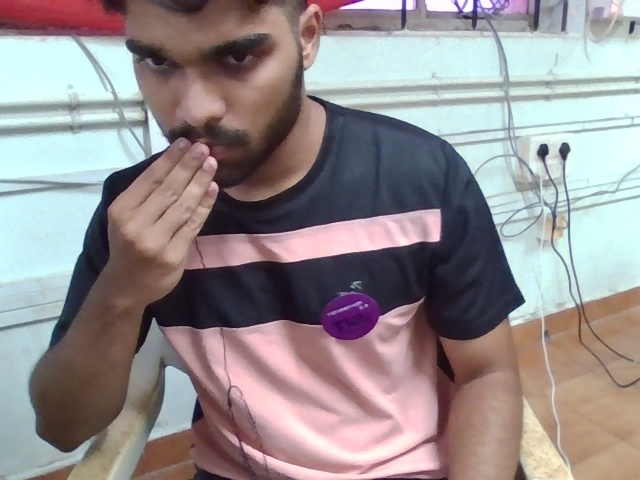eat: (76, 121, 252, 337)
